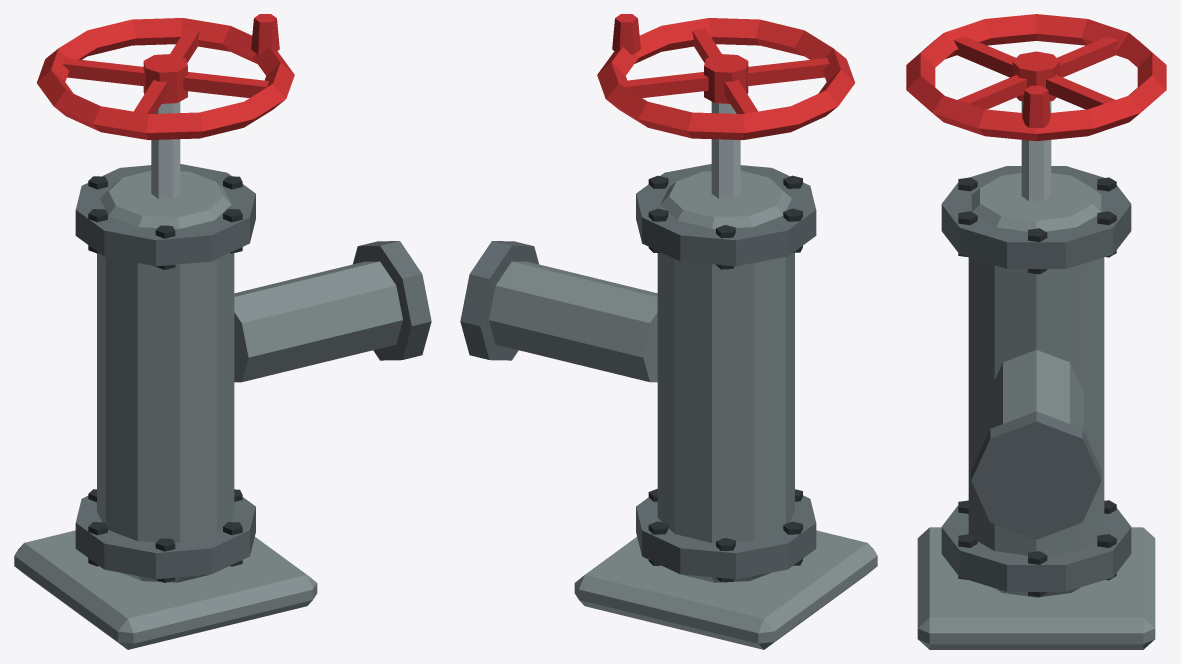
The model's file is ventilrad.glb.
The picture shows the model from 3 angles, left to right: view 1: azimuth 30°, elevation 25°; view 2: azimuth 150°, elevation 25°; view 3: azimuth 270°, elevation 25°; orthographic projection. The views are drawn at different scales.
Visible parts, largest first — view 1: ventilrad-m, rad-m; view 2: ventilrad-m, rad-m; view 3: ventilrad-m, rad-m.
Part boxes in pixels (bbox=[...]): ventilrad-m: bbox=[14, 102, 431, 649]; rad-m: bbox=[37, 14, 294, 139]; ventilrad-m: bbox=[460, 102, 877, 649]; rad-m: bbox=[597, 14, 854, 139]; ventilrad-m: bbox=[917, 101, 1155, 649]; rad-m: bbox=[906, 14, 1166, 141].
Bounding box in the file's own units: 0.695 × 1.05 × 0.4387.
